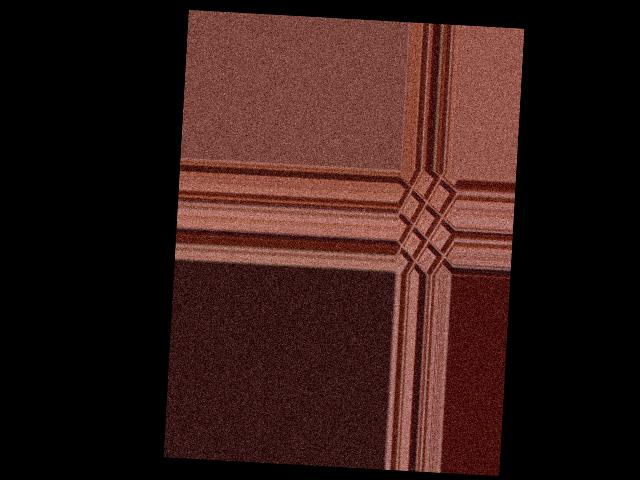chocolate: (396, 169, 459, 273)
